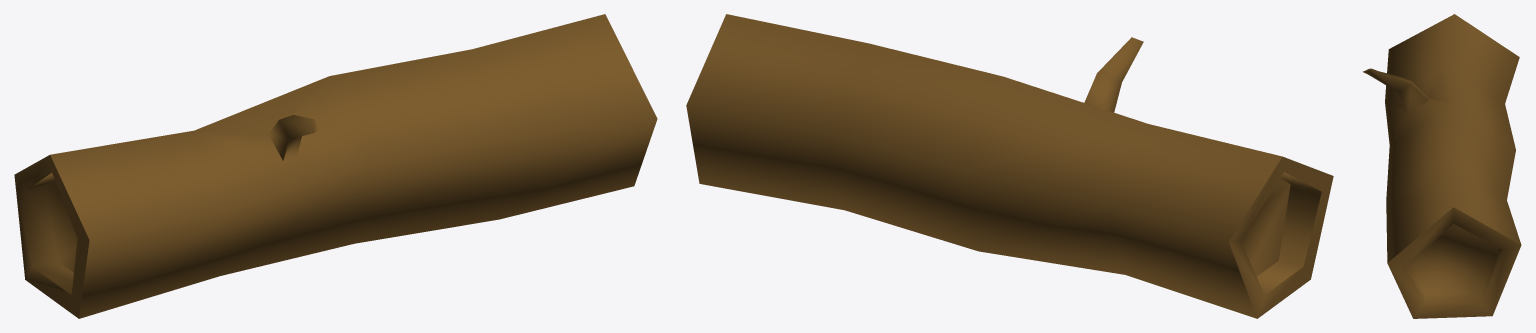
File: Tronco.fbx
3 renders of one model, left to right at view 1: azimuth 30°, elevation 25°; view 2: azimuth 150°, elevation 25°; view 3: azimuth 270°, elevation 25°, orthographic. The views are drawn at different scales.
Visible parts, largest first — view 1: Tronco.001; view 2: Tronco.001; view 3: Tronco.001.
Part boxes in pixels (x1,y1,x2,y2): Tronco.001: (14,14,657,318); Tronco.001: (686,14,1333,318); Tronco.001: (1363,14,1521,318).
Size of the model in its own units: 288 by 84.03 by 95.91.
